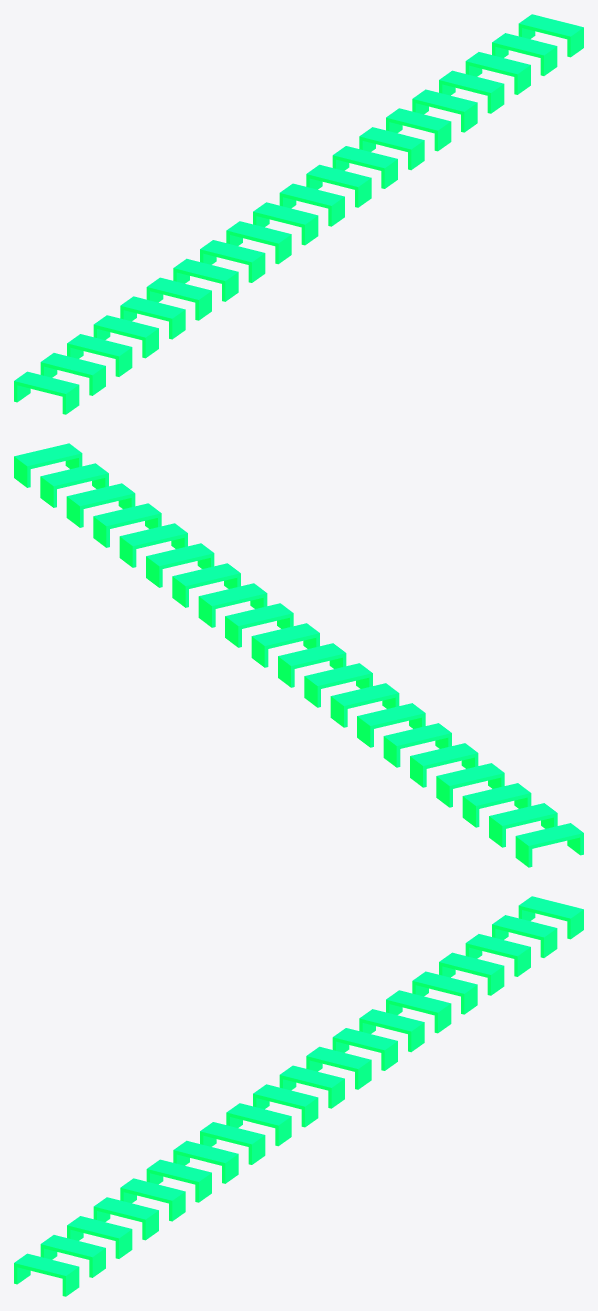
File: Signal_01.fbx
3 renders of one model, top to bottom at view 1: azimuth 90°, elevation 25°; view 2: azimuth 150°, elevation 25°; view 3: azimuth 270°, elevation 25°, orthographic. The views are drawn at different scales.
Visible parts, largest first — view 1: Signal_01; view 2: Signal_01; view 3: Signal_01.
Boxes of the visible parts, box(x1,y1,x2,y2) form: Signal_01: box(14, 14, 583, 414); Signal_01: box(14, 443, 583, 867); Signal_01: box(14, 896, 583, 1296).
Bounding box in the file's own units: 383 × 9.76 × 243.
